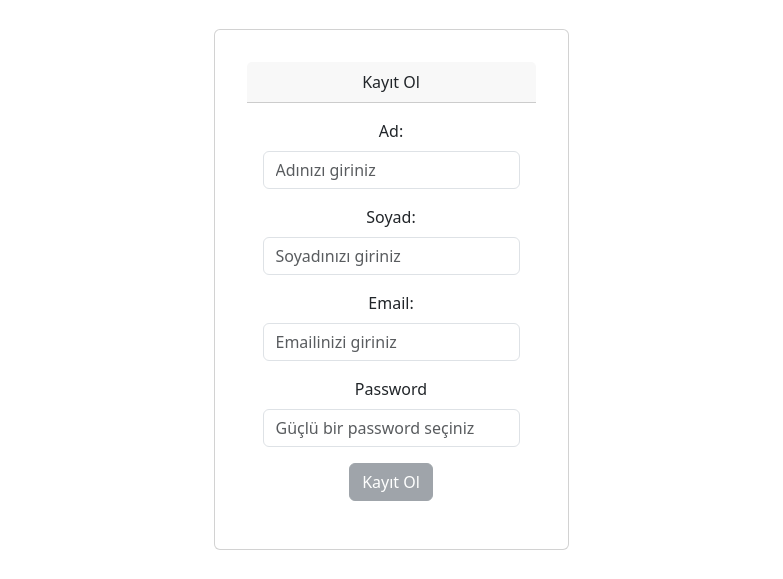
Test case: Register Page › Error Messages › password input throws errors for 1234.
This screenshot has width=783, height=579.
In the password field with test id "password-input": [392, 428] box [263,409,520,447], type "1234"
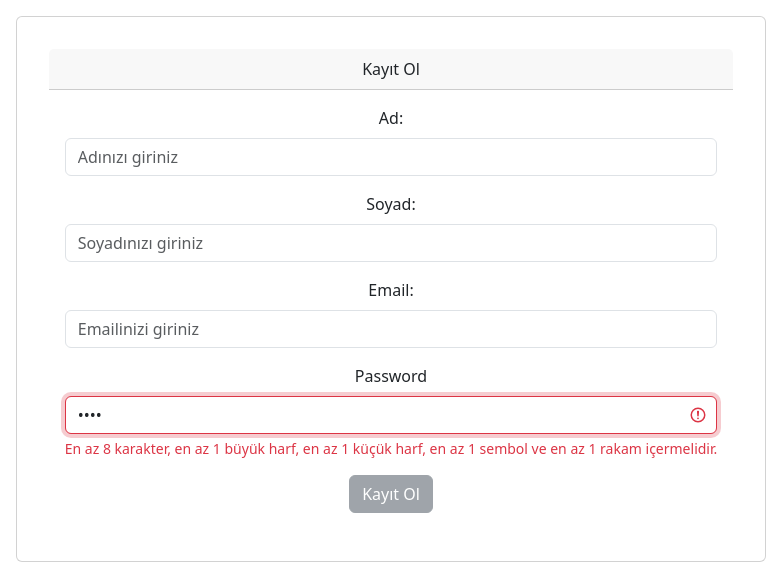
Now the text "En az 8 karakter, en az 1 büyük harf, en az 1 küçük harf, en az 1 sembol ve en az 1 rakam içermelidir." is shown, box [65,439,718,458]
